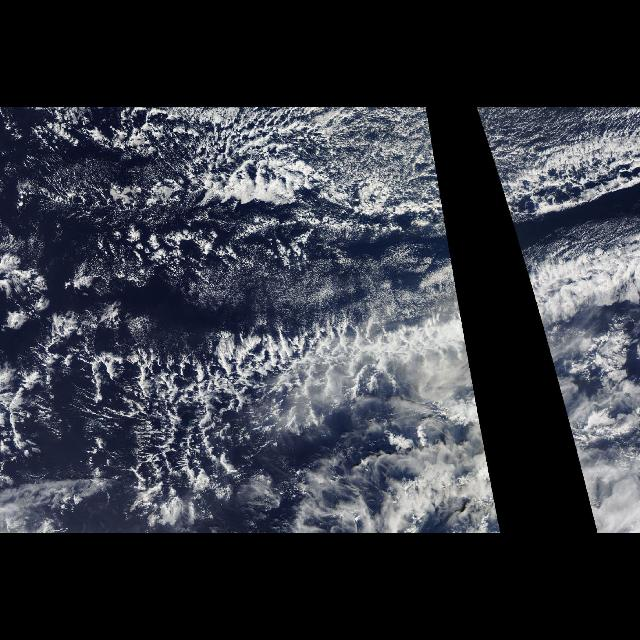Fish: (24, 108, 498, 526), (475, 108, 639, 520)
Sugar: (172, 258, 400, 318)
